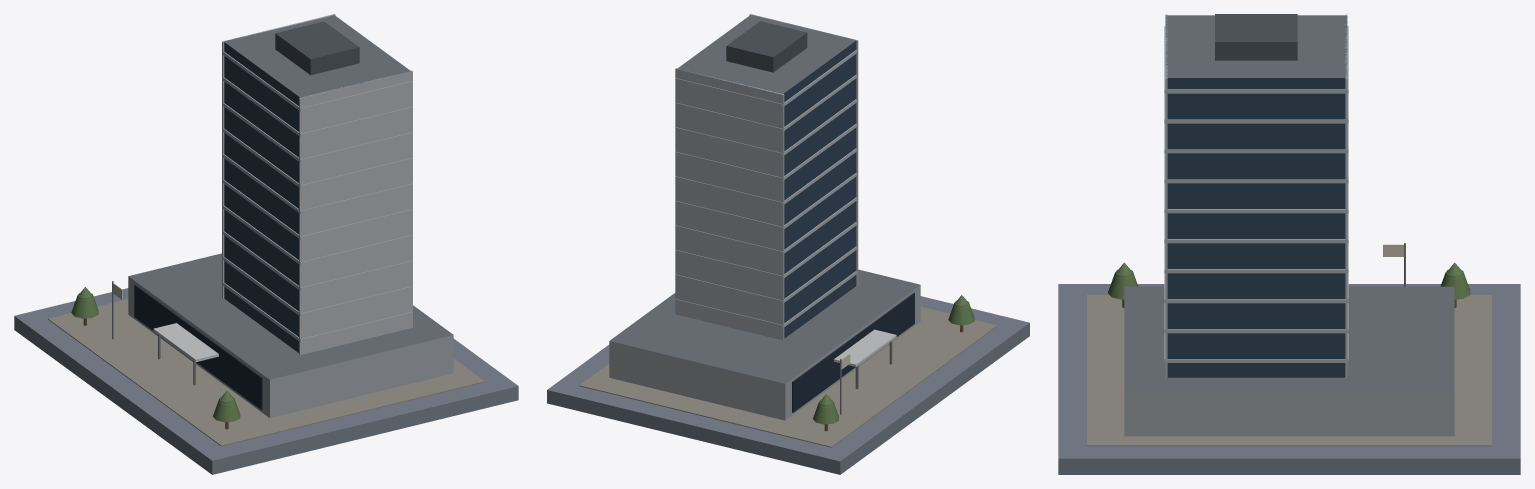
The model's file is office_building.glb.
3 views of the same model, side by side, from view 1: azimuth 30°, elevation 25°; view 2: azimuth 150°, elevation 25°; view 3: azimuth 270°, elevation 25° (orthographic). The views are drawn at different scales.
Parts seen in each view (by area): view 1: office_building; view 2: office_building; view 3: office_building.
Boxes of the visible parts, x1,y1,x2,y2 form: office_building: [14, 14, 518, 474]; office_building: [547, 14, 1029, 474]; office_building: [1058, 14, 1520, 474].
Size of the model in its own units: 50 by 50.85 by 56.
